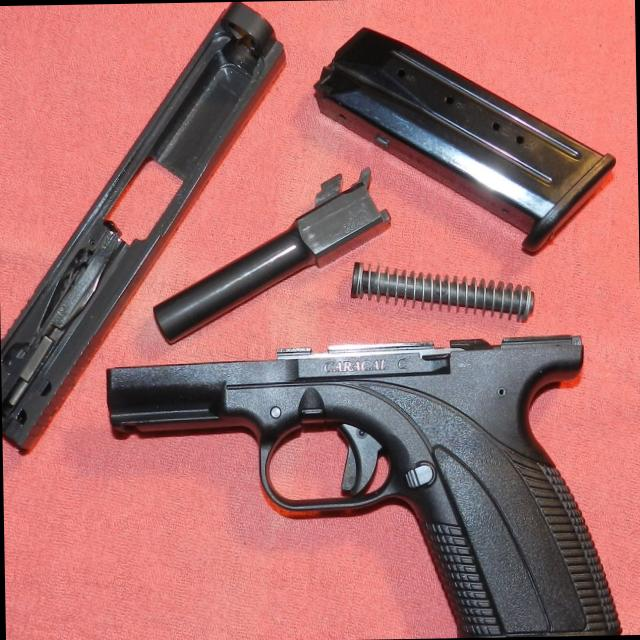Gun: (65, 281, 635, 640)
